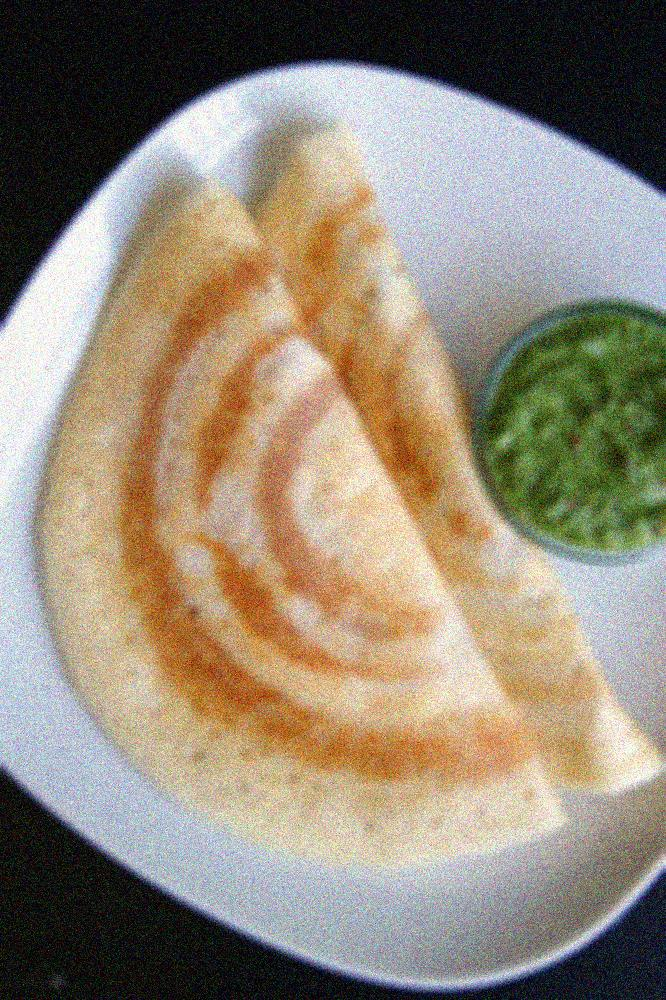dosa: (29, 172, 573, 872)
